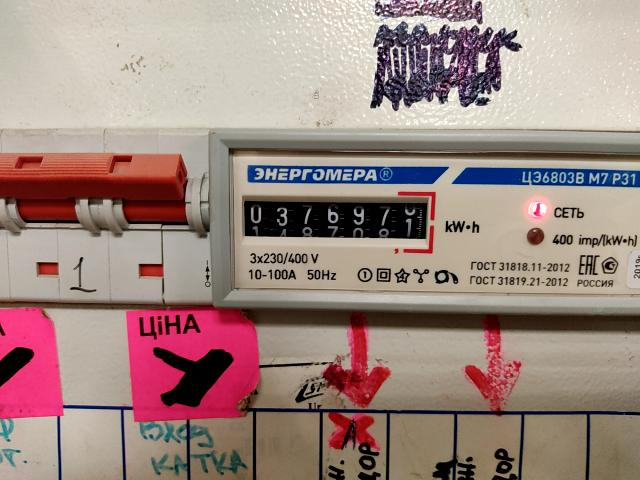0: (248, 203, 264, 224)
1: (404, 217, 415, 238)
3: (275, 205, 289, 228)
6: (327, 203, 340, 224)
7: (301, 202, 314, 226), (378, 204, 391, 227)
9: (352, 204, 365, 226)
screen: (236, 189, 439, 257)
